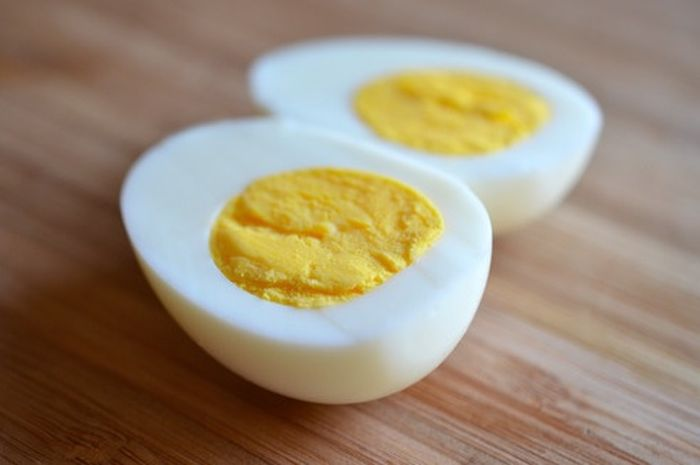Telur: (74, 145, 479, 400), (237, 12, 612, 194)
